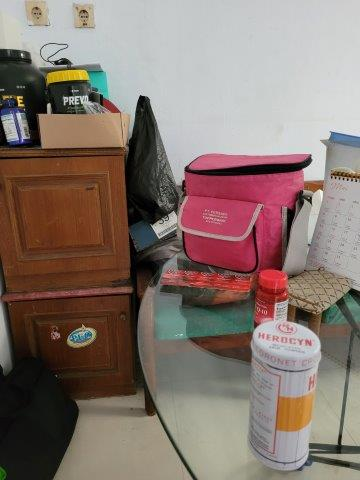kaleng: (251, 321, 321, 470)
